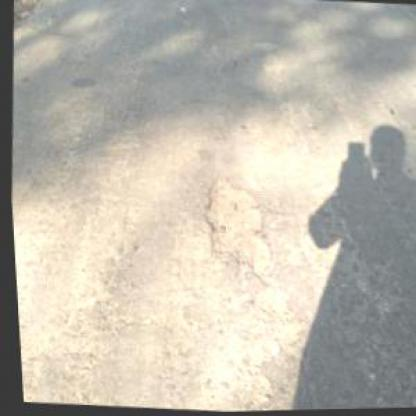pothole: (194, 175, 280, 282)
